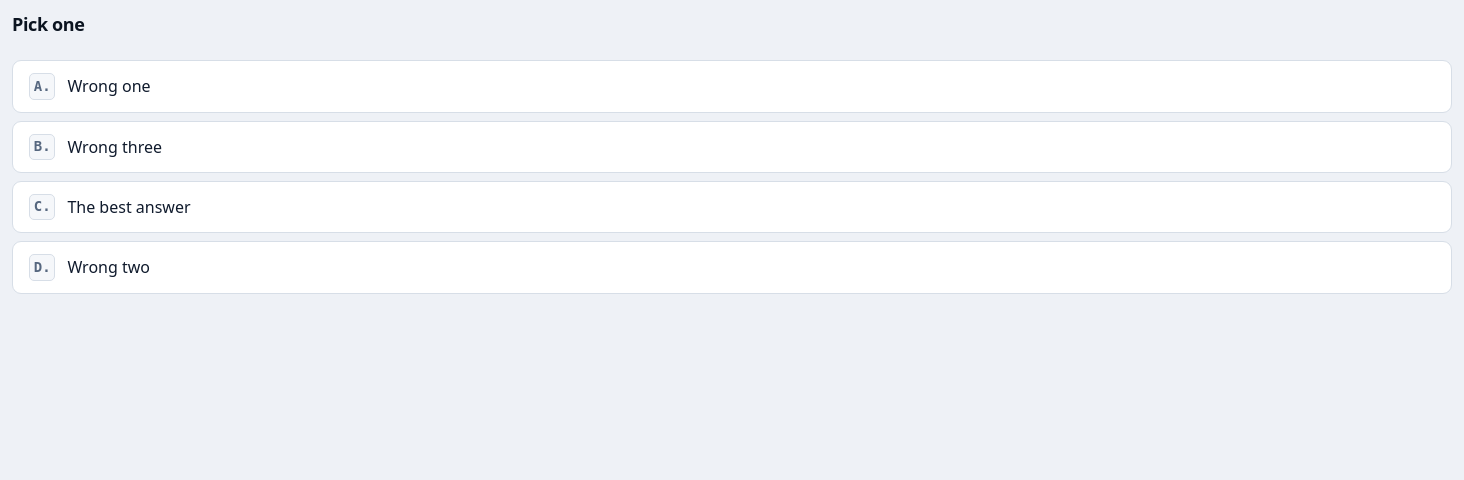
Test case: QuestionCard with shuffled options › shows the feedback belonging to the option the student actually picked
This screenshot has width=1464, height=480.
Click the button "A. Wrong one".
click(109, 86)  # box [12,60,1452,113]
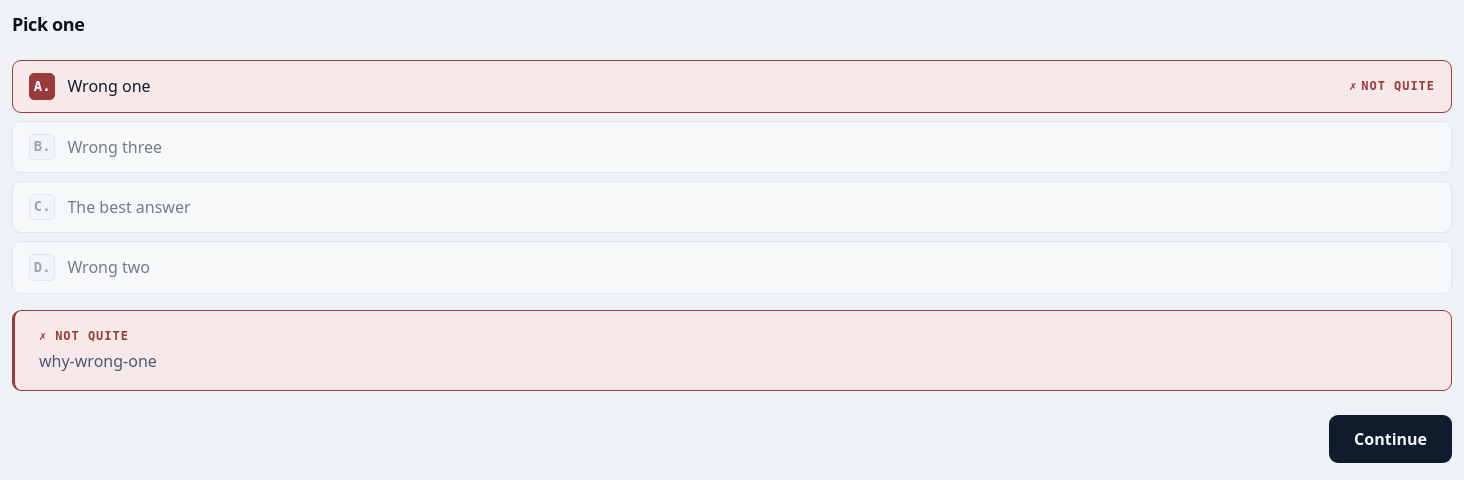
Now the text "why-wrong-one" is shown, box [39,350,157,372]
